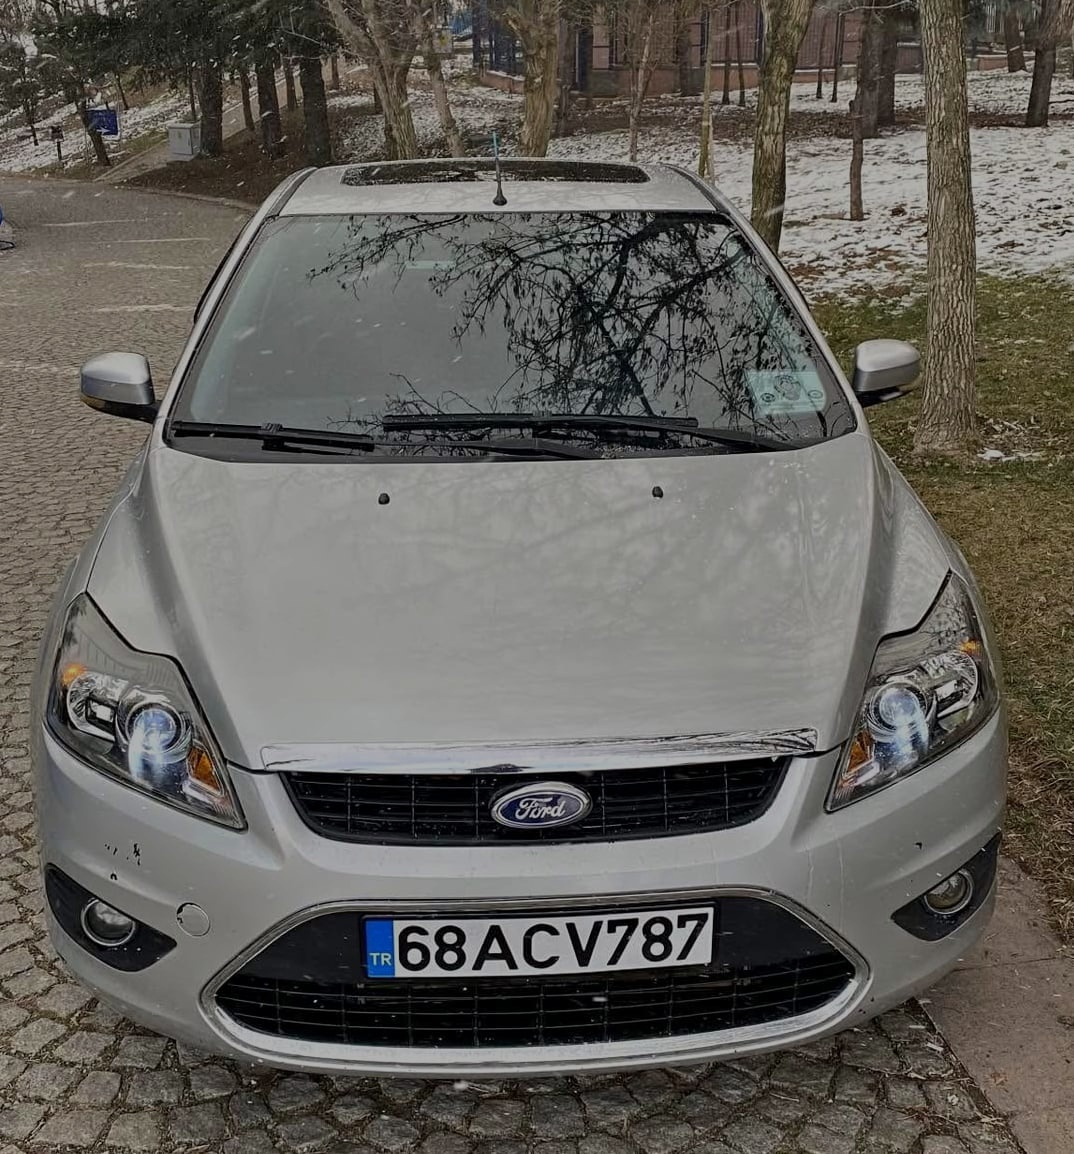plaka: (381, 906, 720, 970)
